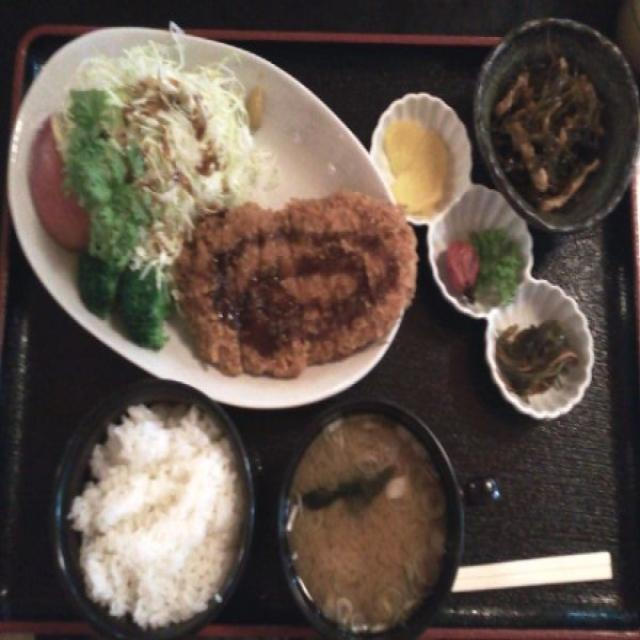Rice: (75, 396, 244, 622)
